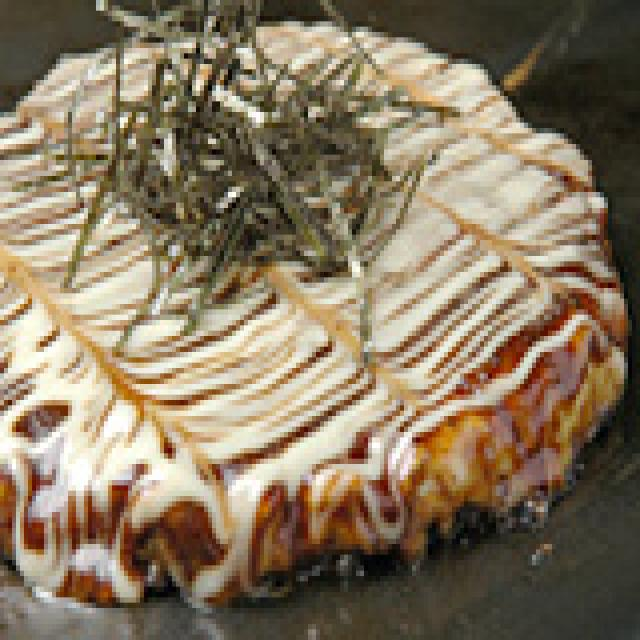蛋糕甜品: (0, 0, 640, 597)
